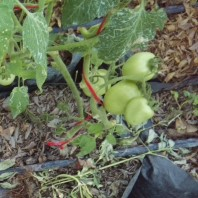tomato: (119, 47, 170, 86), (104, 79, 143, 113), (79, 65, 116, 98), (123, 96, 158, 127)
